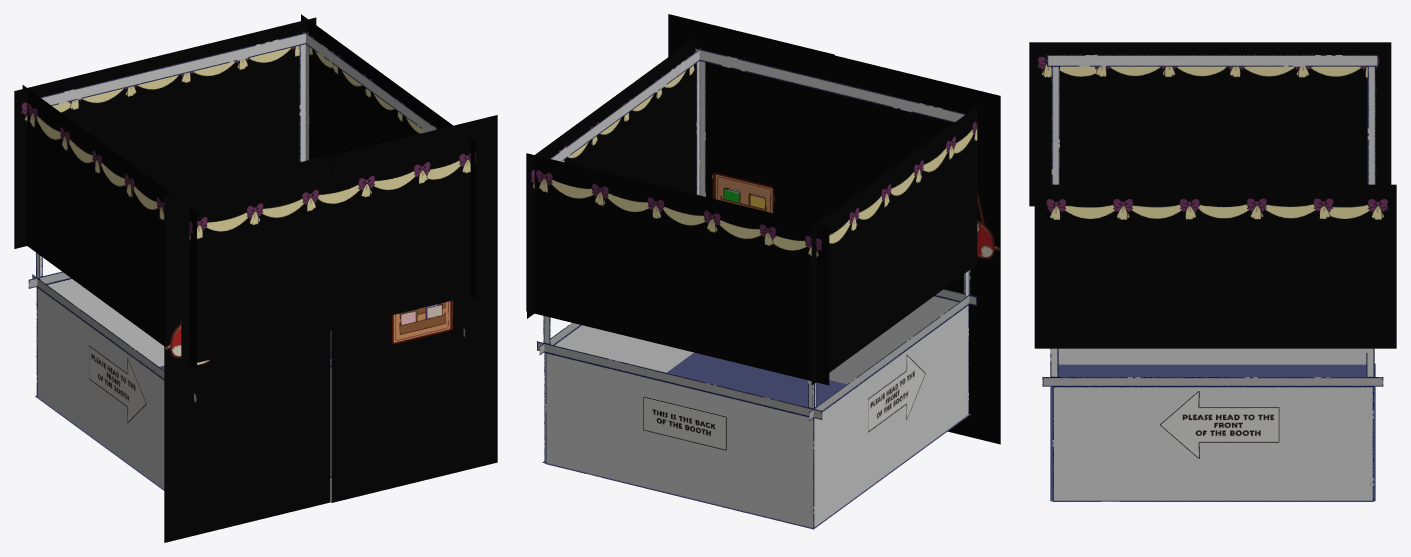
The model's file is Booth.fbx.
3 views of the same model, side by side, from view 1: azimuth 30°, elevation 25°; view 2: azimuth 150°, elevation 25°; view 3: azimuth 270°, elevation 25° (orthographic). The views are drawn at different scales.
Visible parts, largest first — view 1: Booth; view 2: Booth; view 3: Booth.
Part boxes in pixels (x1,y1,x2,y2): Booth: (14,14,497,542); Booth: (526,14,1000,529); Booth: (1029,42,1396,501).
Bounding box in the file's own units: 1.02 × 1.1 × 1.1.
